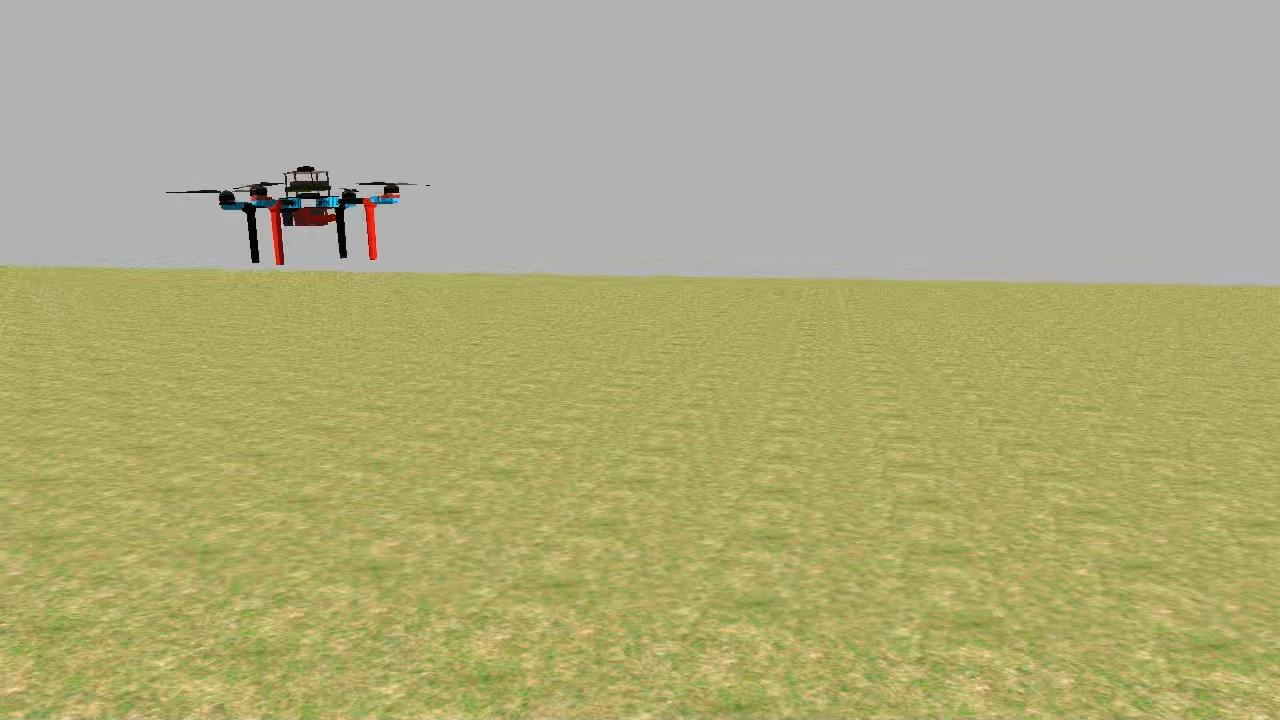UAV: (210, 156, 404, 272)
